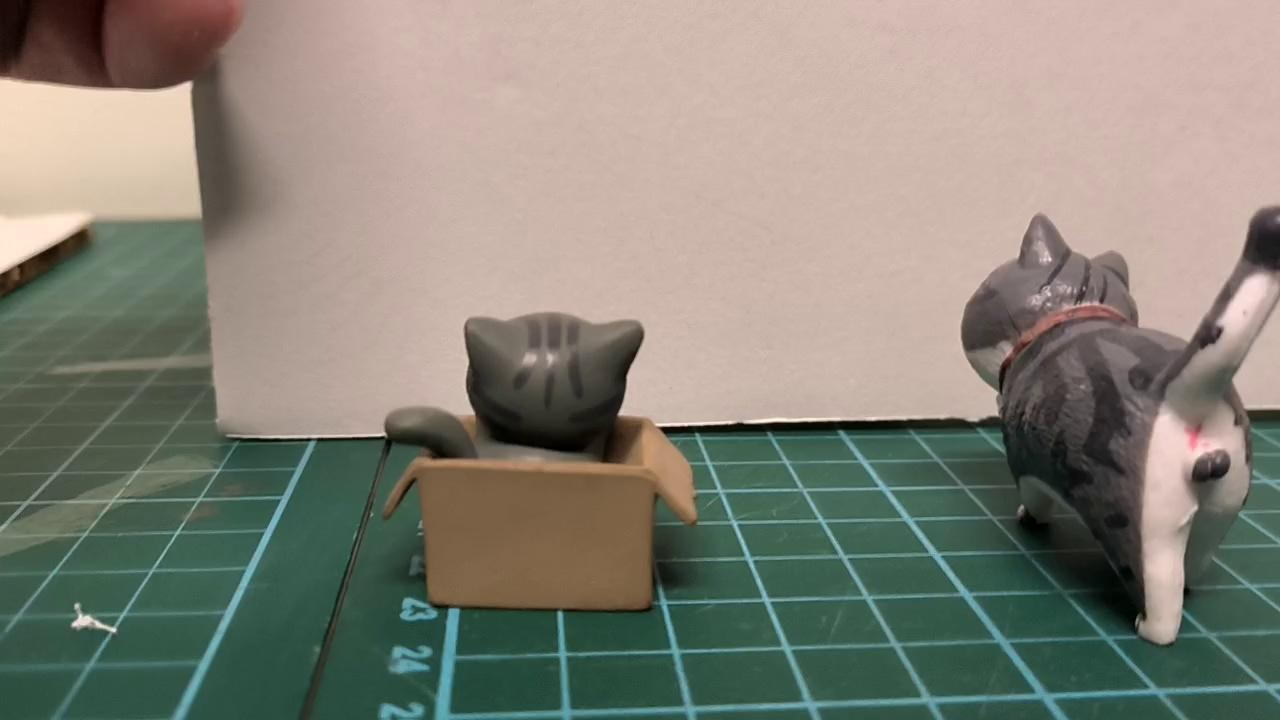pet: (956, 202, 1280, 657), (379, 301, 650, 477)
